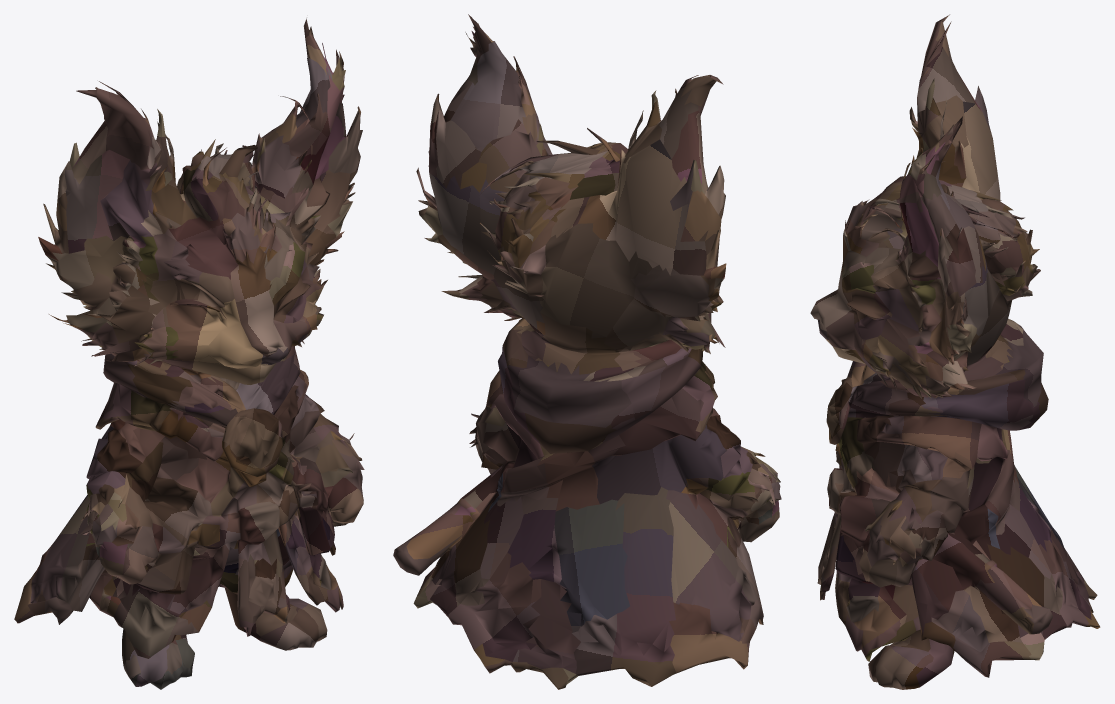
The model's file is echo.glb.
3 views of the same model, side by side, from view 1: azimuth 30°, elevation 25°; view 2: azimuth 150°, elevation 25°; view 3: azimuth 270°, elevation 25° (orthographic). The views are drawn at different scales.
Visible parts, largest first — view 1: Echo_BrowserExport; view 2: Echo_BrowserExport; view 3: Echo_BrowserExport.
Part boxes in pixels (box(x1,y1,x2,y2)): Echo_BrowserExport: box(14, 18, 364, 689); Echo_BrowserExport: box(393, 14, 781, 689); Echo_BrowserExport: box(810, 14, 1100, 689).
Bounding box in the file's own units: 0.5707 × 0.979 × 0.4391.
Materials: 1 (1 with a texture image).
